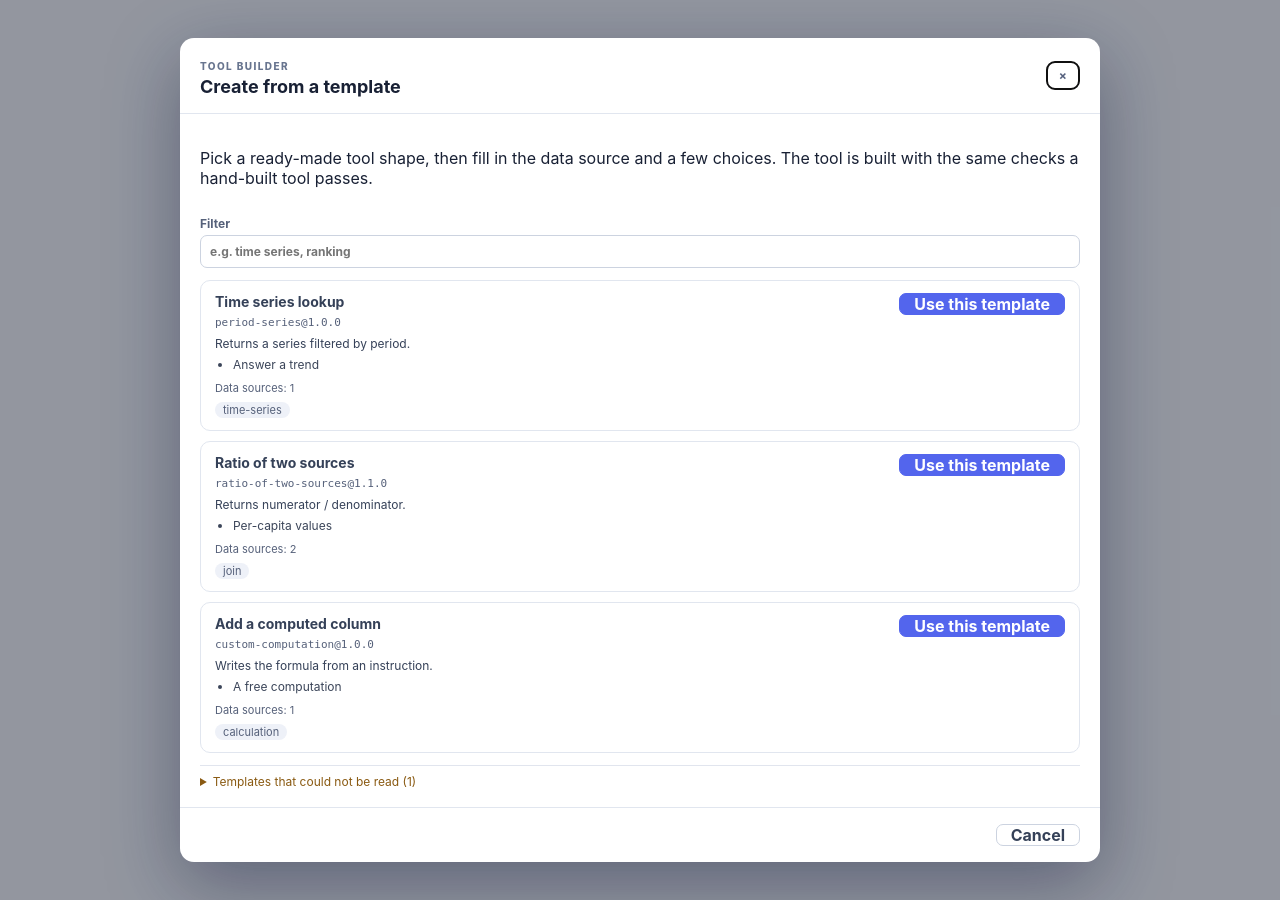
Test: TemplateDialog: テンプレート一覧 › 境界: 一致が無ければ「一致するテンプレートがありません」を出す
Expected: the text "Time series lookup" is shown, x1=215 y1=293 x2=344 y2=310
Type "zzz" into the field named "Filter templates" at (640, 252), box x1=200 y1=235 x2=1080 y2=268
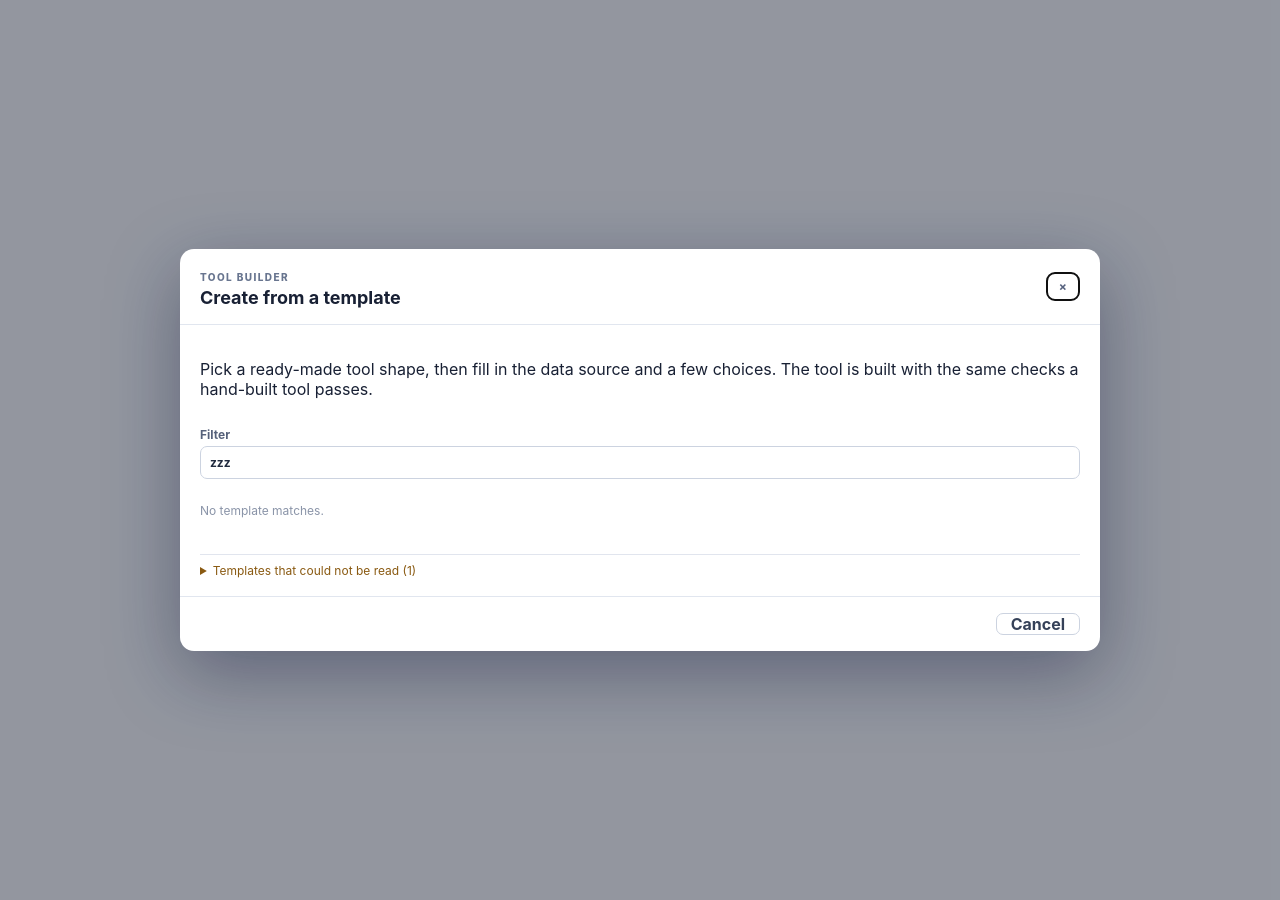
Expected: the text "No template matches." is shown, x1=200 y1=503 x2=324 y2=518
